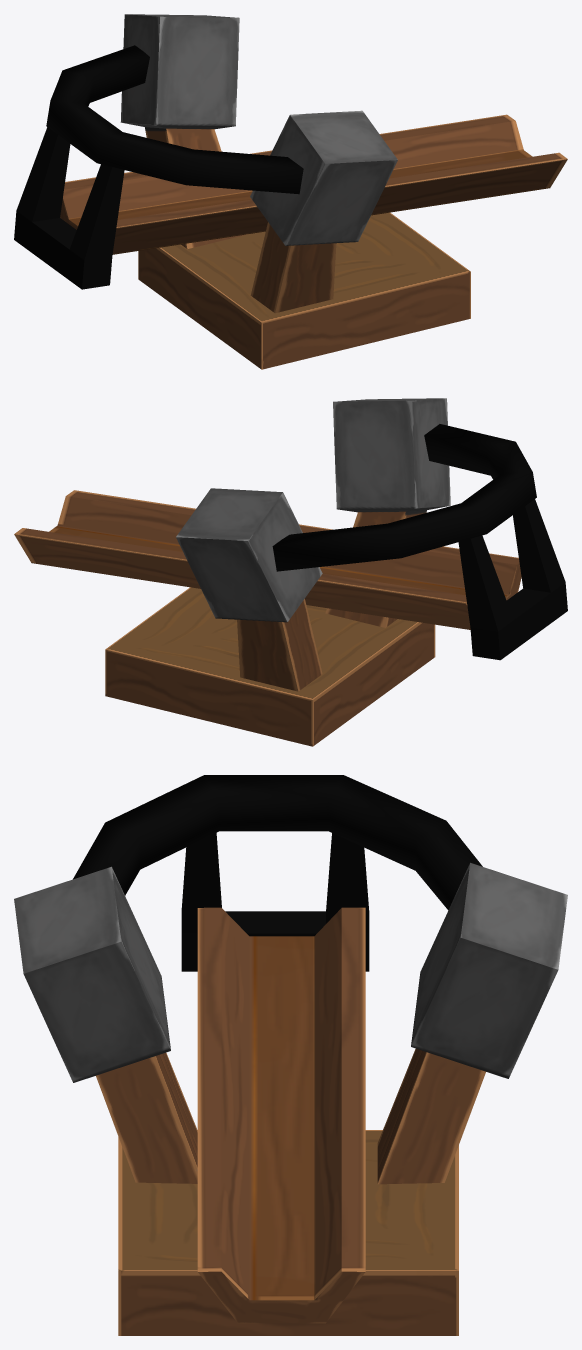
File: Level 2.FBX
3 views of the same model, one above another, from view 1: azimuth 30°, elevation 25°; view 2: azimuth 150°, elevation 25°; view 3: azimuth 270°, elevation 25° (orthographic). The views are drawn at different scales.
Parts seen in each view (by area): view 1: Box246; view 2: Box246; view 3: Box246.
Part boxes in pixels (bbox=[...]): Box246: bbox=[14, 14, 567, 369]; Box246: bbox=[14, 398, 567, 746]; Box246: bbox=[14, 775, 567, 1335].
Size of the model in its own units: 44.77 by 22.04 by 31.64.
